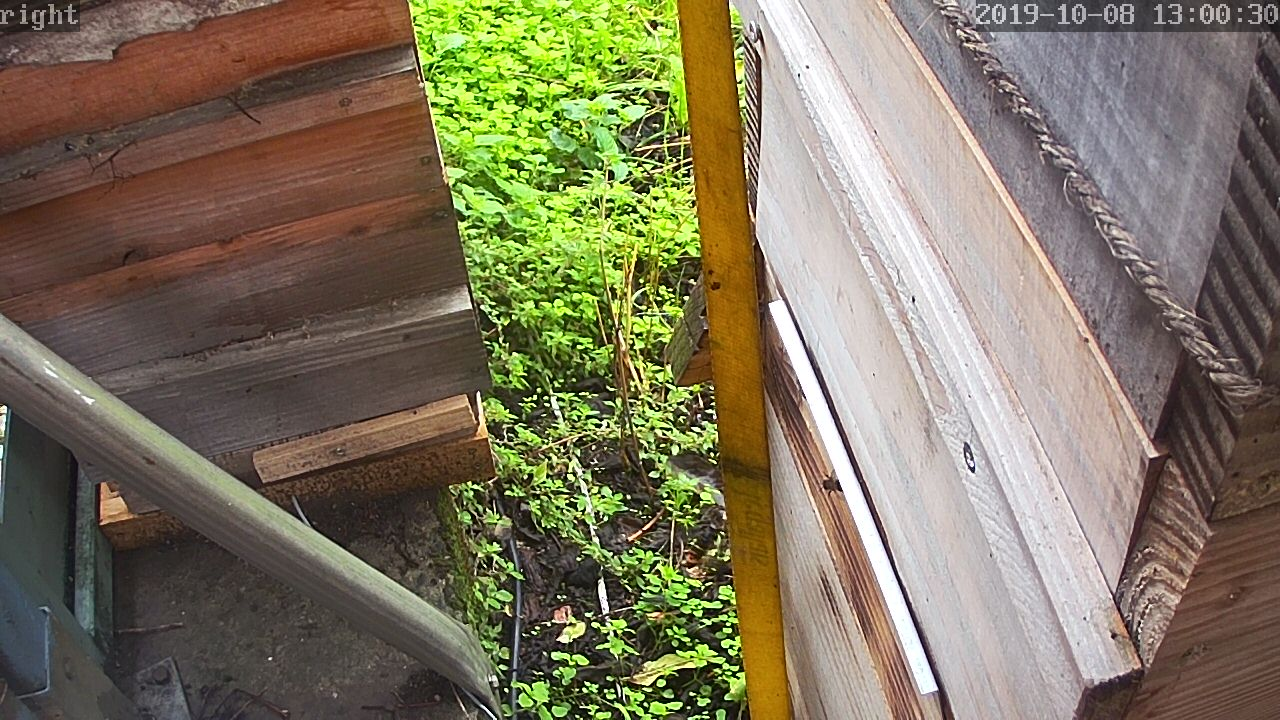bee: (816, 468, 845, 500)
hornet: (674, 519, 722, 573)
